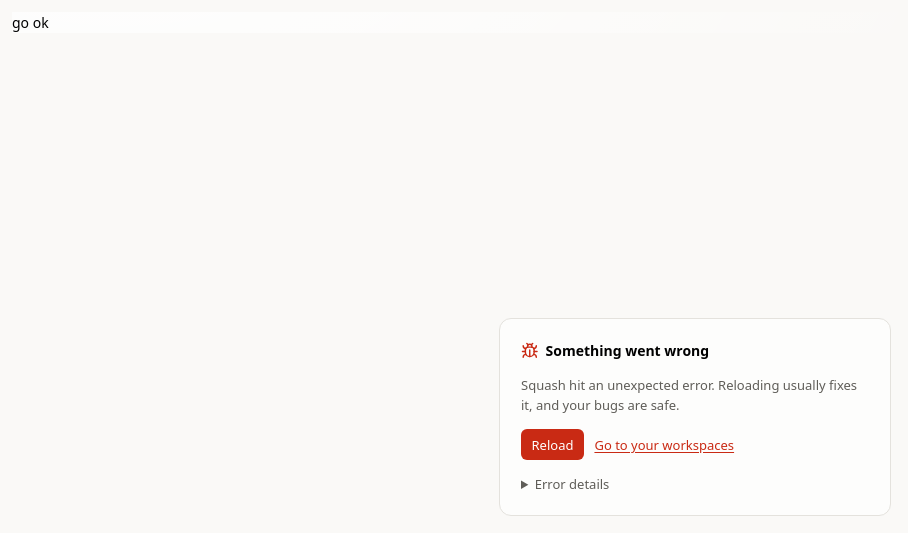
ErrorBoundary › resets an errored boundary when resetKey changes
Expected: the heading "Something went wrong" is shown, [546, 340, 709, 361]
Click the link "go ok": (30, 22) [12, 13, 49, 32]
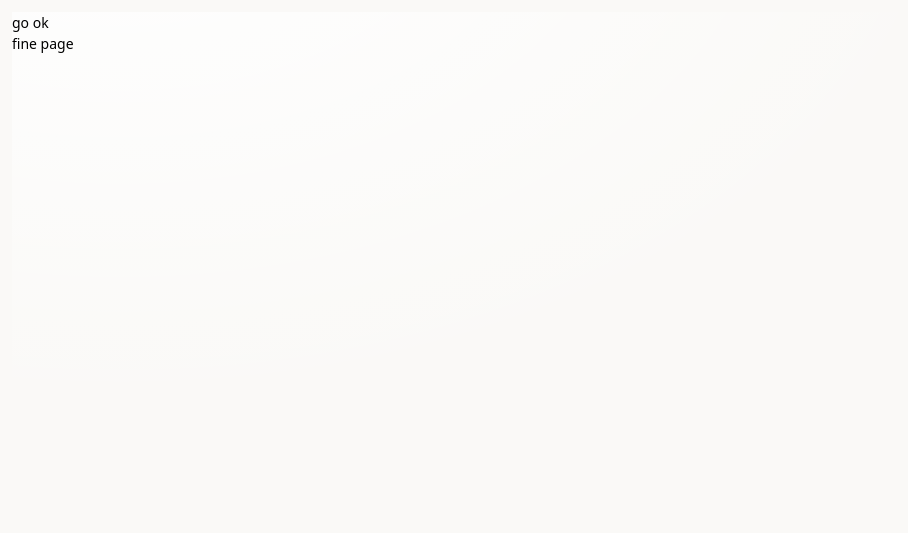
Now the text "fine page" is shown, box [12, 34, 74, 53]
